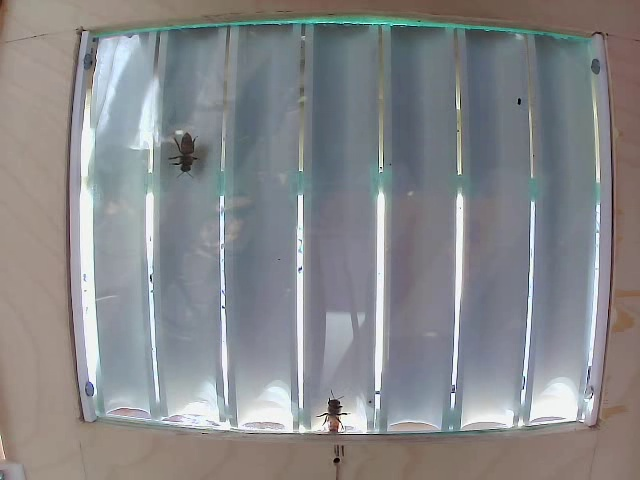bee: (166, 120, 207, 176), (308, 389, 348, 432)
